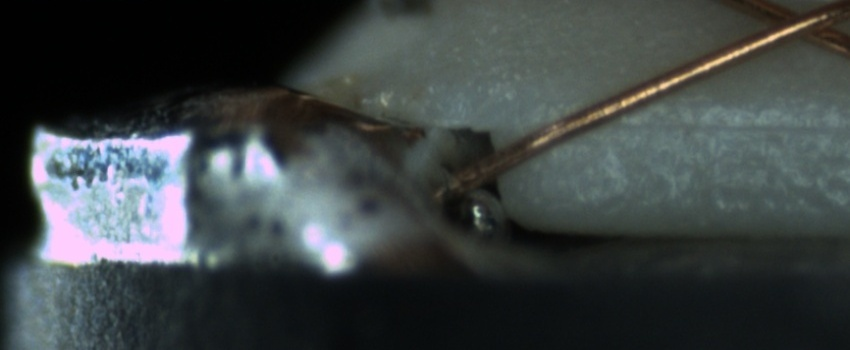CL: (734, 0, 848, 50)
DL: (571, 91, 843, 157)
